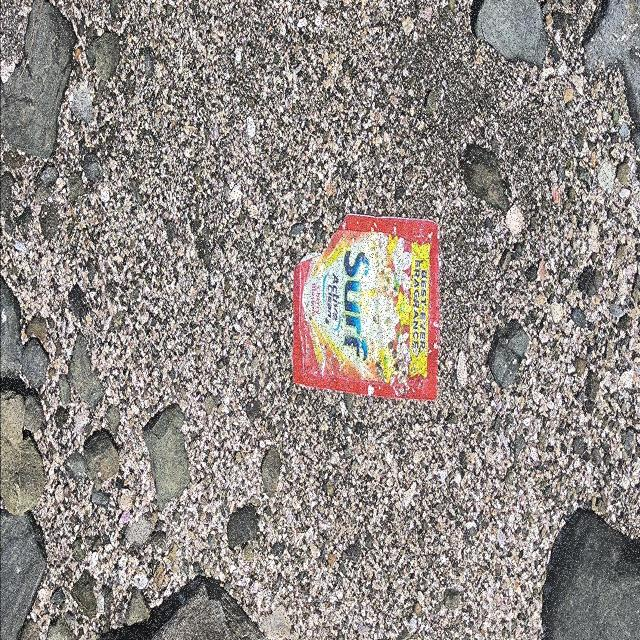plastic_waste: (295, 214, 442, 402)
